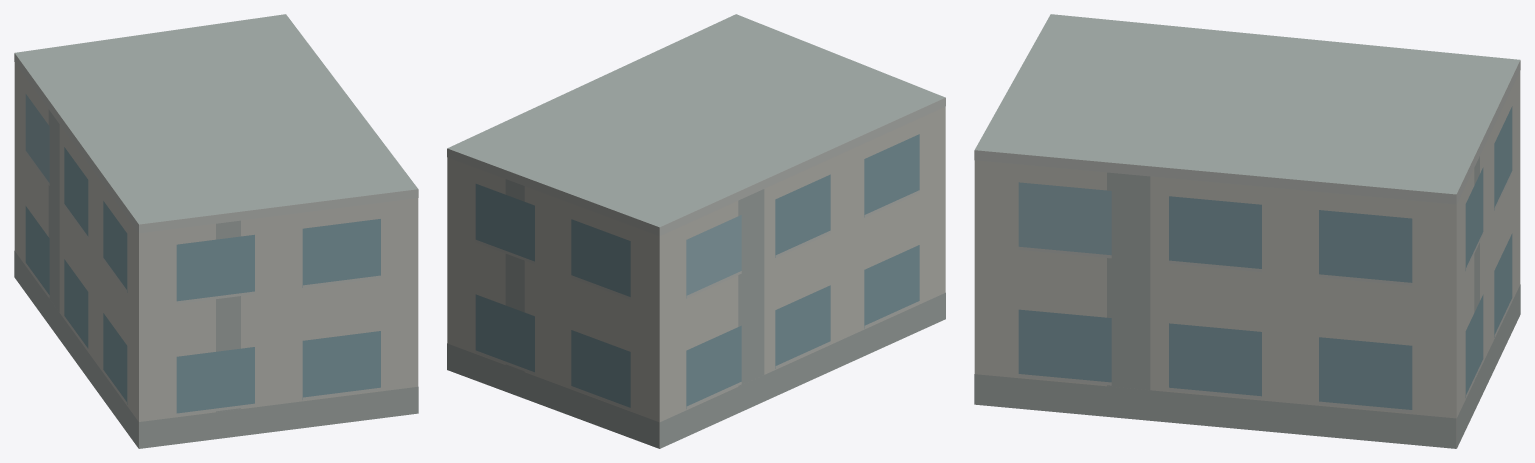
The model's file is survey-upis-32705309.glb.
3 renders of one model, left to right at view 1: azimuth 30°, elevation 25°; view 2: azimuth 150°, elevation 25°; view 3: azimuth 270°, elevation 25°, orthographic. The views are drawn at different scales.
Parts seen in each view (by area): view 1: survey-upis-32705309.tmp; view 2: survey-upis-32705309.tmp; view 3: survey-upis-32705309.tmp.
Part boxes in pixels (x1,y1,x2,y2): survey-upis-32705309.tmp: (14, 14, 418, 448); survey-upis-32705309.tmp: (447, 14, 945, 448); survey-upis-32705309.tmp: (974, 14, 1520, 448).
Size of the model in its own units: 9.29 by 6.1 by 11.88.
